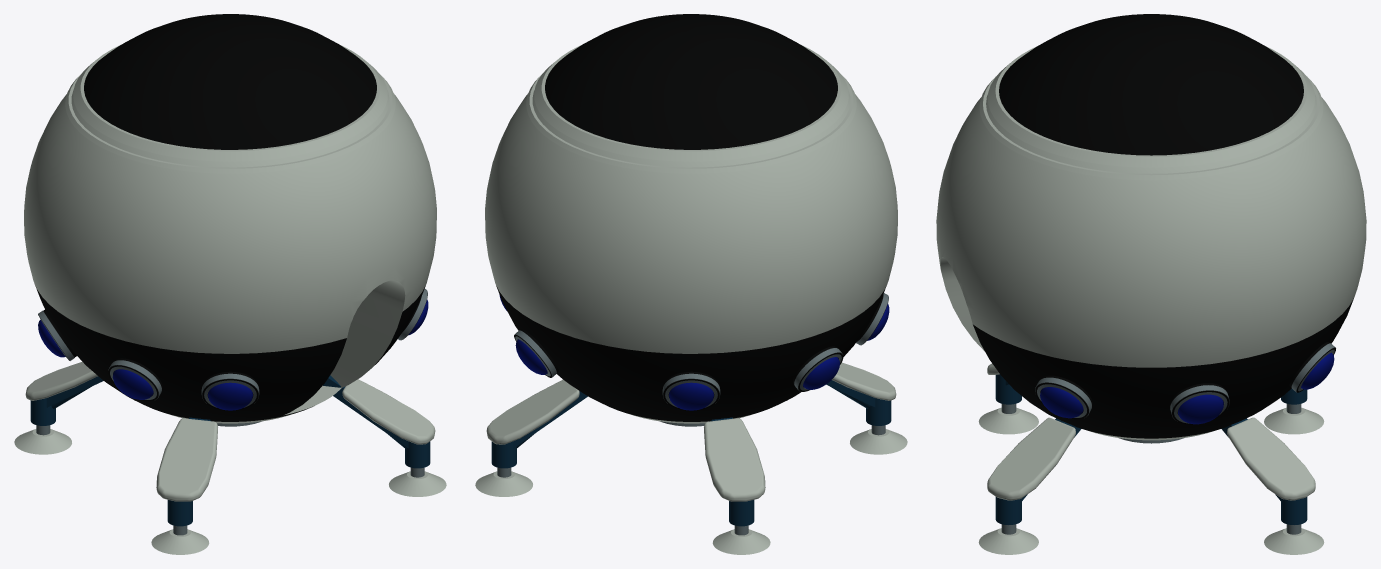
Rendered from capsulaCuerpo.obj.
3 views of the same model, side by side, from view 1: azimuth 30°, elevation 25°; view 2: azimuth 150°, elevation 25°; view 3: azimuth 270°, elevation 25° (orthographic). The views are drawn at different scales.
Visible parts, largest first — view 1: Continuous_pressure_hull_export_Warm_white_hull, Continuous_pressure_hull_export_Charcoal_crown_and_belt, Upper_crown_collar_export_Warm_white_hull, Gear_0_upper_fairing_export_Warm_white_hull, Lower_crown_collar_export_Warm_white_hull, Gear_1_upper_fairing_export_Warm_white_hull, Gear_3_upper_fairing_export_Warm_white_hull, Gear_0_flared_landing_pad_export_Warm_white_hull, Gear_3_flared_landing_pad_export_Warm_white_hull, Gear_1_flared_landing_pad_export_Warm_white_hull, Porthole_03_glass_export_Blue_window_glass, Porthole_02_glass_export_Blue_window_glass (+6 smaller); view 2: Continuous_pressure_hull_export_Warm_white_hull, Continuous_pressure_hull_export_Charcoal_crown_and_belt, Upper_crown_collar_export_Warm_white_hull, Gear_3_upper_fairing_export_Warm_white_hull, Lower_crown_collar_export_Warm_white_hull, Gear_2_upper_fairing_export_Warm_white_hull, Gear_0_upper_fairing_export_Warm_white_hull, Gear_3_flared_landing_pad_export_Warm_white_hull, Gear_0_flared_landing_pad_export_Warm_white_hull, Gear_2_flared_landing_pad_export_Warm_white_hull, Porthole_00_glass_export_Blue_window_glass, Porthole_01_glass_export_Blue_window_glass (+6 smaller); view 3: Continuous_pressure_hull_export_Warm_white_hull, Continuous_pressure_hull_export_Charcoal_crown_and_belt, Upper_crown_collar_export_Warm_white_hull, Gear_1_upper_fairing_export_Warm_white_hull, Gear_2_upper_fairing_export_Warm_white_hull, Lower_crown_collar_export_Warm_white_hull, Gear_0_flared_landing_pad_export_Warm_white_hull, Gear_3_flared_landing_pad_export_Warm_white_hull, Gear_1_flared_landing_pad_export_Warm_white_hull, Gear_2_flared_landing_pad_export_Warm_white_hull, Porthole_05_glass_export_Blue_window_glass, Porthole_04_glass_export_Blue_window_glass (+7 smaller).
Part boxes in pixels (<box>): Continuous_pressure_hull_export_Warm_white_hull: <box>24,90,436,423</box>; Continuous_pressure_hull_export_Charcoal_crown_and_belt: <box>35,14,425,421</box>; Upper_crown_collar_export_Warm_white_hull: <box>73,45,387,161</box>; Gear_0_upper_fairing_export_Warm_white_hull: <box>156,418,217,501</box>; Lower_crown_collar_export_Warm_white_hull: <box>65,74,395,173</box>; Gear_1_upper_fairing_export_Warm_white_hull: <box>342,379,435,444</box>; Gear_3_upper_fairing_export_Warm_white_hull: <box>25,361,97,400</box>; Gear_0_flared_landing_pad_export_Warm_white_hull: <box>151,529,209,554</box>; Gear_3_flared_landing_pad_export_Warm_white_hull: <box>14,429,71,454</box>; Gear_1_flared_landing_pad_export_Warm_white_hull: <box>389,471,446,496</box>; Porthole_03_glass_export_Blue_window_glass: <box>208,382,252,410</box>; Porthole_02_glass_export_Blue_window_glass: <box>112,369,153,399</box>; Continuous_pressure_hull_export_Warm_white_hull: <box>485,90,897,423</box>; Continuous_pressure_hull_export_Charcoal_crown_and_belt: <box>496,14,886,421</box>; Upper_crown_collar_export_Warm_white_hull: <box>534,45,848,161</box>; Gear_3_upper_fairing_export_Warm_white_hull: <box>704,418,765,501</box>; Lower_crown_collar_export_Warm_white_hull: <box>526,74,856,173</box>; Gear_2_upper_fairing_export_Warm_white_hull: <box>486,379,579,444</box>; Gear_0_upper_fairing_export_Warm_white_hull: <box>832,362,896,400</box>; Gear_3_flared_landing_pad_export_Warm_white_hull: <box>712,529,770,554</box>; Gear_0_flared_landing_pad_export_Warm_white_hull: <box>850,429,907,454</box>; Gear_2_flared_landing_pad_export_Warm_white_hull: <box>475,471,532,496</box>; Porthole_00_glass_export_Blue_window_glass: <box>669,382,713,410</box>; Porthole_01_glass_export_Blue_window_glass: <box>803,357,839,389</box>; Continuous_pressure_hull_export_Warm_white_hull: <box>936,93,1366,440</box>; Continuous_pressure_hull_export_Charcoal_crown_and_belt: <box>973,14,1353,438</box>; Upper_crown_collar_export_Warm_white_hull: <box>987,46,1315,167</box>; Gear_1_upper_fairing_export_Warm_white_hull: <box>987,417,1075,500</box>; Gear_2_upper_fairing_export_Warm_white_hull: <box>1227,417,1315,500</box>; Lower_crown_collar_export_Warm_white_hull: <box>979,76,1323,180</box>; Gear_0_flared_landing_pad_export_Warm_white_hull: <box>978,407,1038,434</box>; Gear_3_flared_landing_pad_export_Warm_white_hull: <box>1264,407,1324,434</box>; Gear_1_flared_landing_pad_export_Warm_white_hull: <box>978,528,1038,554</box>; Gear_2_flared_landing_pad_export_Warm_white_hull: <box>1264,528,1324,554</box>; Porthole_05_glass_export_Blue_window_glass: <box>1178,394,1223,424</box>; Porthole_04_glass_export_Blue_window_glass: <box>1040,387,1083,418</box>.
Size of the model in its own units: 1.19 by 1.37 by 1.19.
